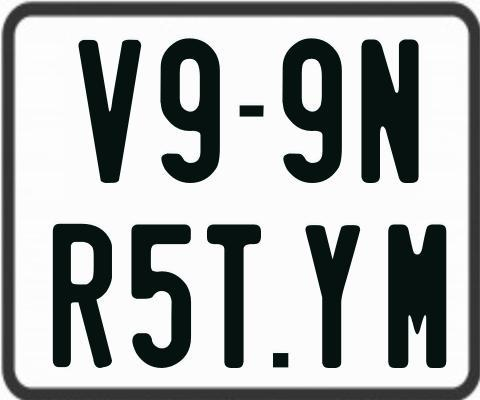5: (129, 225, 190, 371)
9: (160, 36, 224, 186), (280, 35, 346, 180)
M: (387, 223, 446, 368)
N: (359, 39, 421, 182)
R: (53, 223, 118, 368)
T: (207, 225, 261, 369)
V: (78, 39, 141, 182)
Y: (303, 225, 362, 373)
